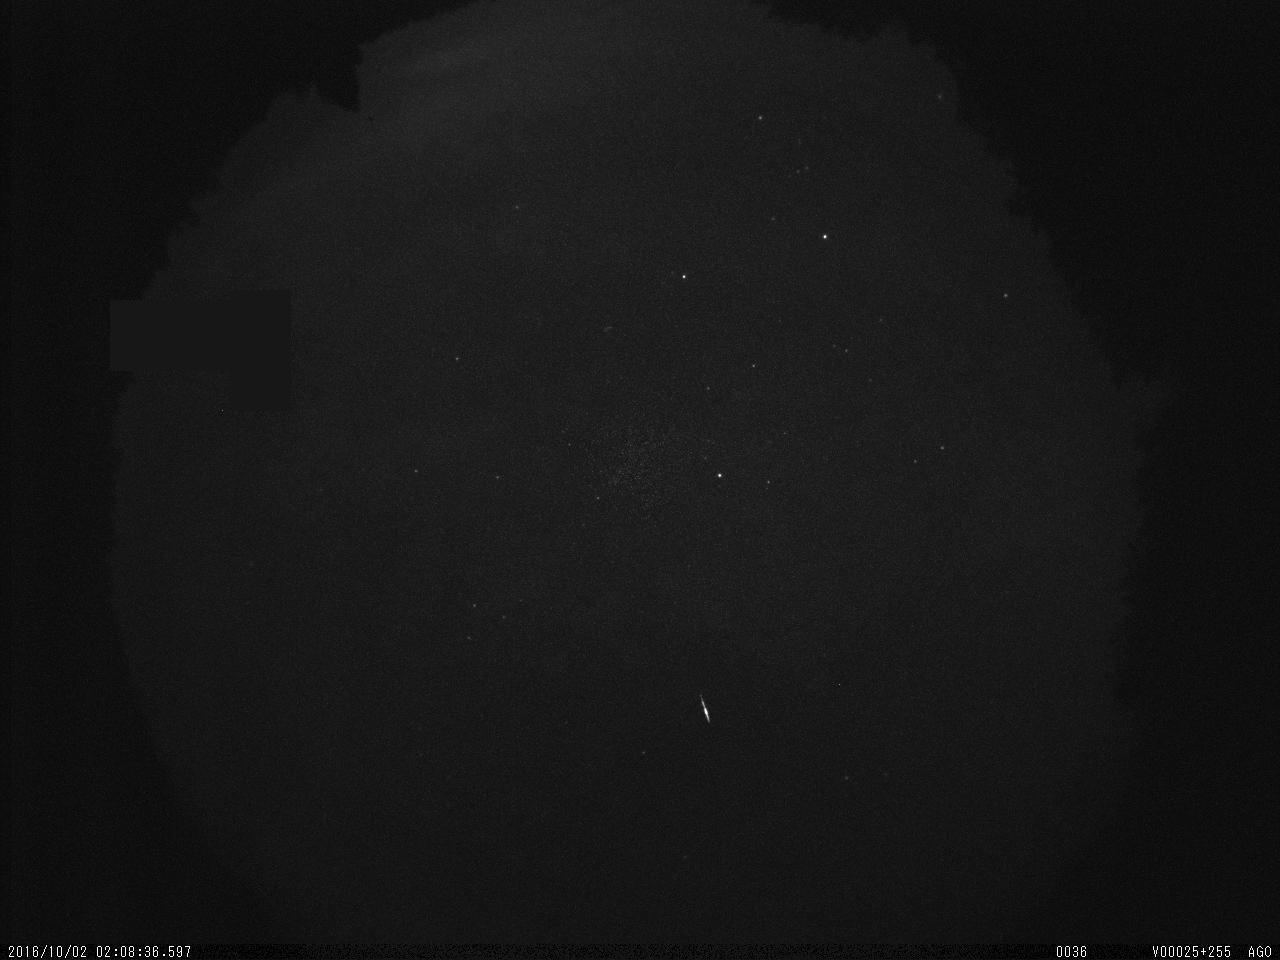meteor: (679, 681, 737, 748)
